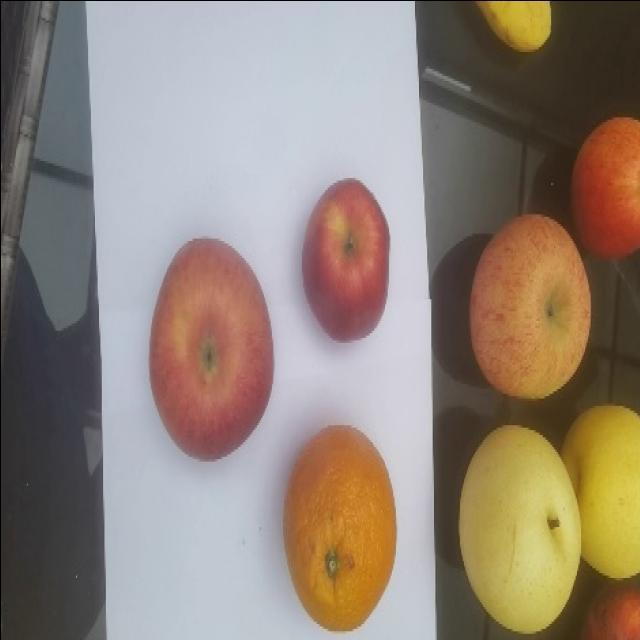Apple: (148, 237, 274, 461), (468, 212, 592, 400), (300, 177, 390, 342), (569, 115, 639, 261), (579, 579, 639, 639)
Orange: (282, 423, 397, 631)
